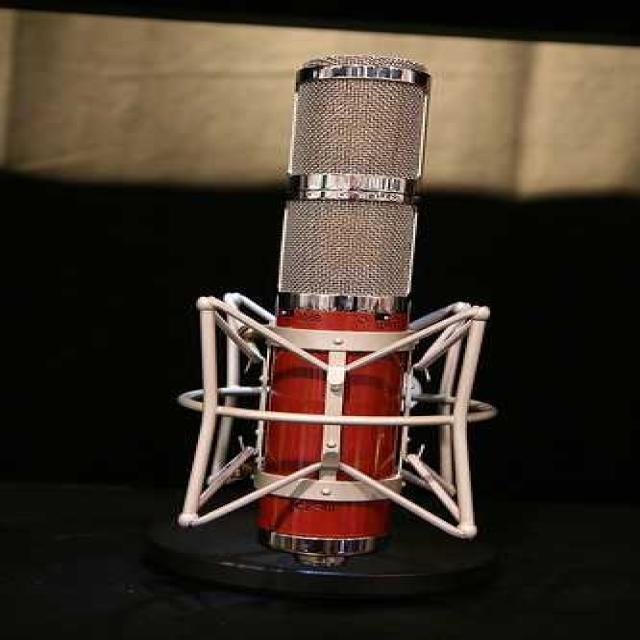microphone: (174, 56, 489, 581)
